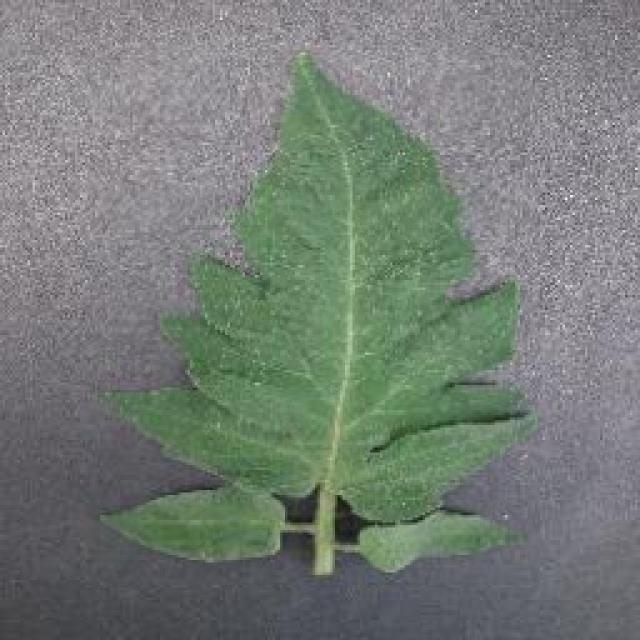Healthy: (85, 45, 540, 587)
